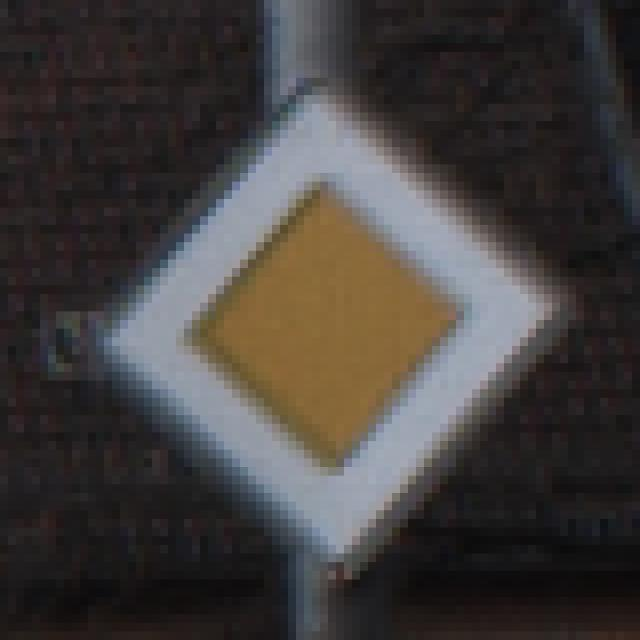Main Road: (65, 62, 585, 589)
